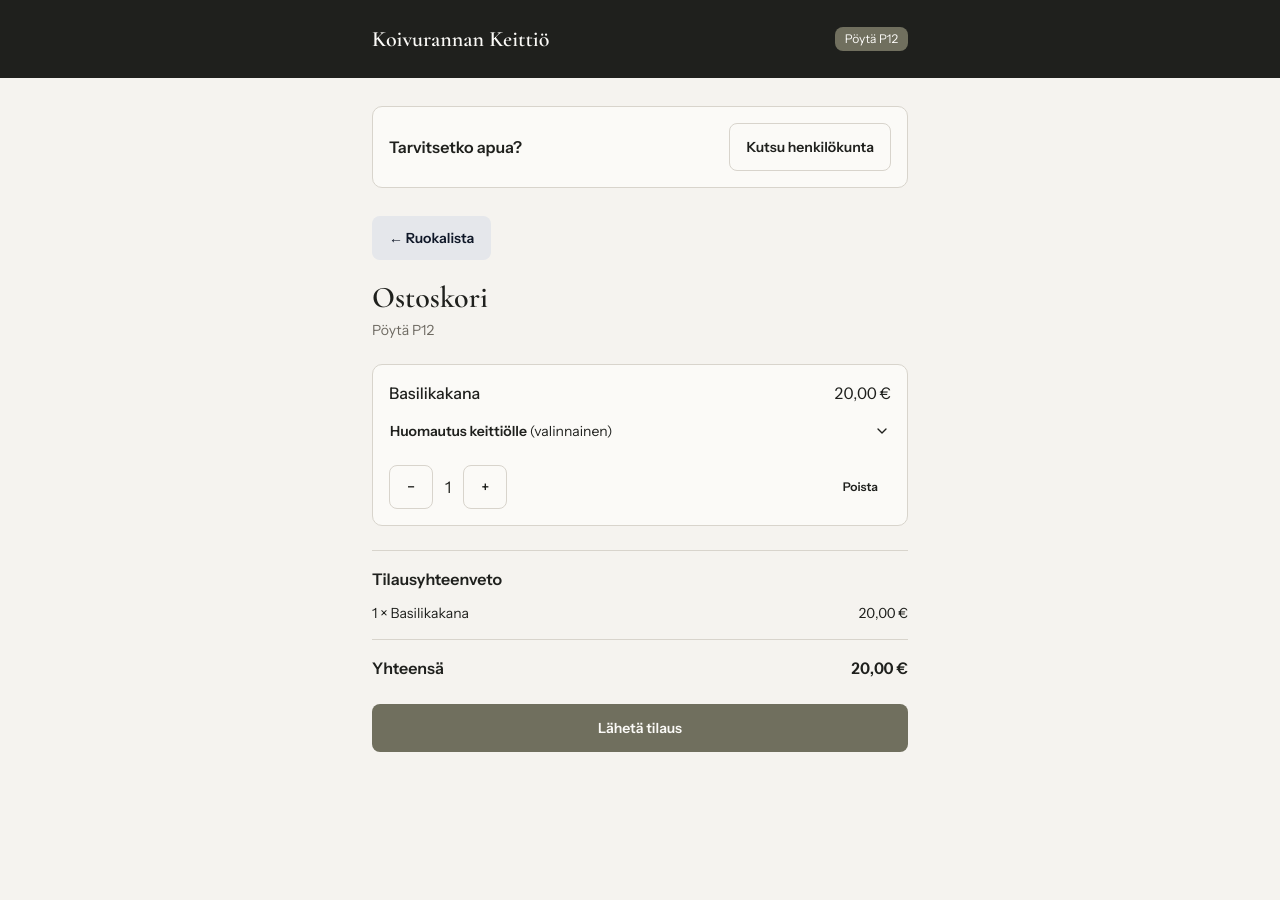
Test: anonymous QR customer › keeps invalid-response locked for recovery without claiming rejection or success
Click the button "Lähetä tilaus" at (640, 728), box [372,704,908,752]
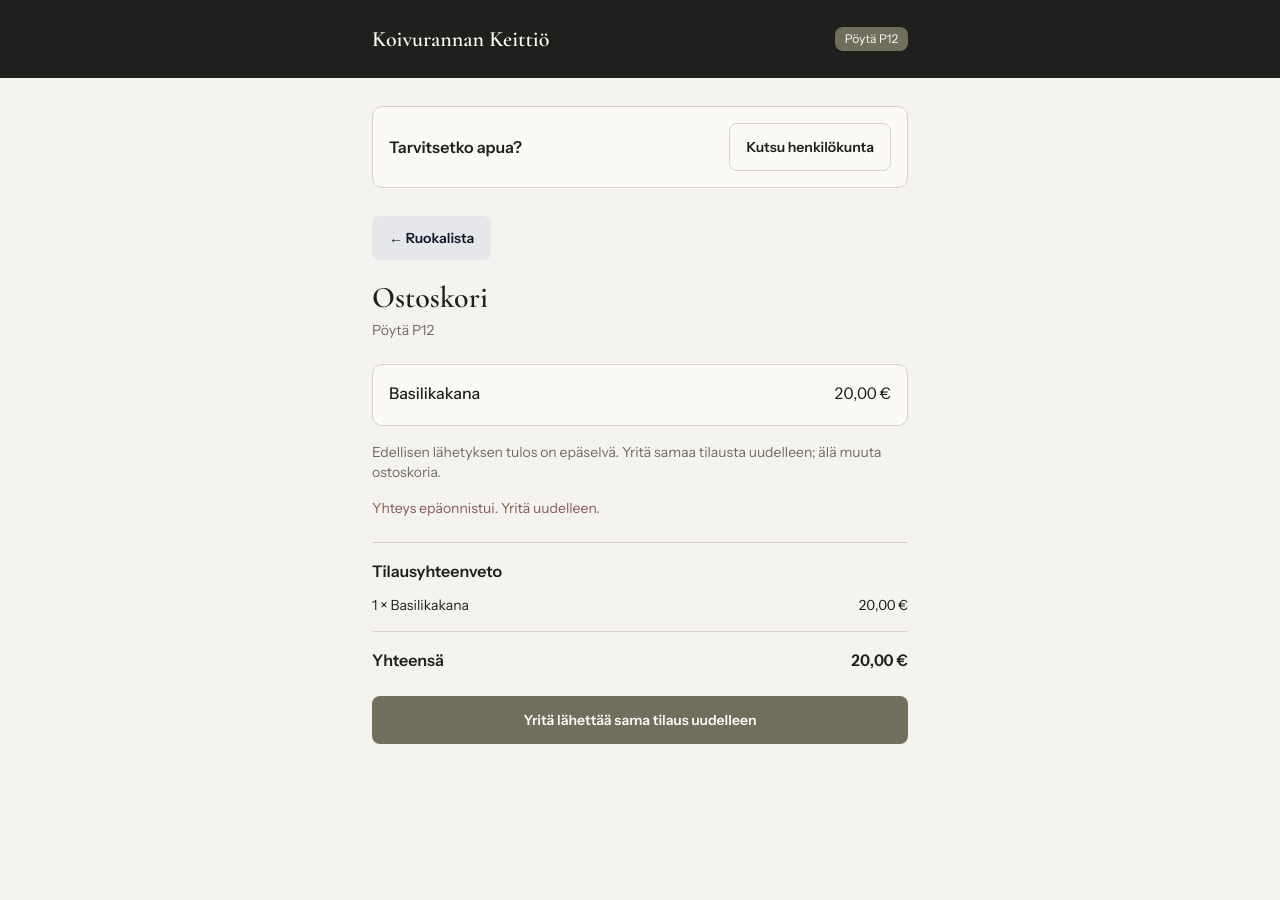
expect the 1st message shows "Edellisen lähetyksen tulos on epäselvä": met, box [372,443,882,481]
